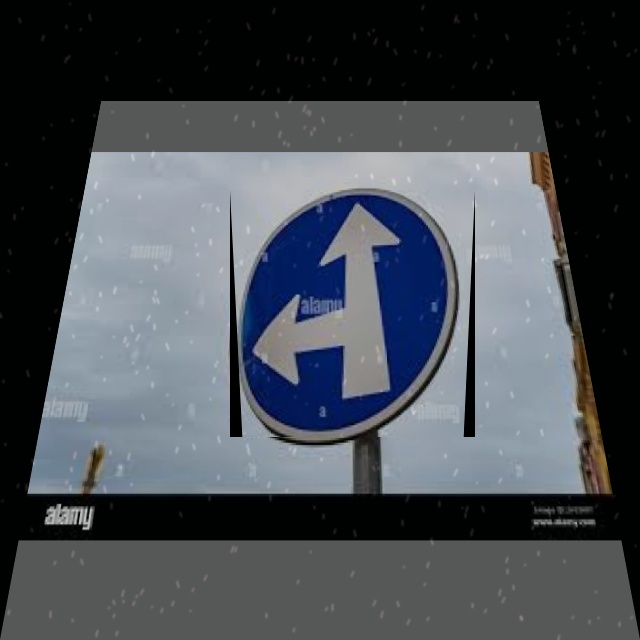Compulsory_Ahead_or_Turn_Left: (230, 190, 475, 437)
